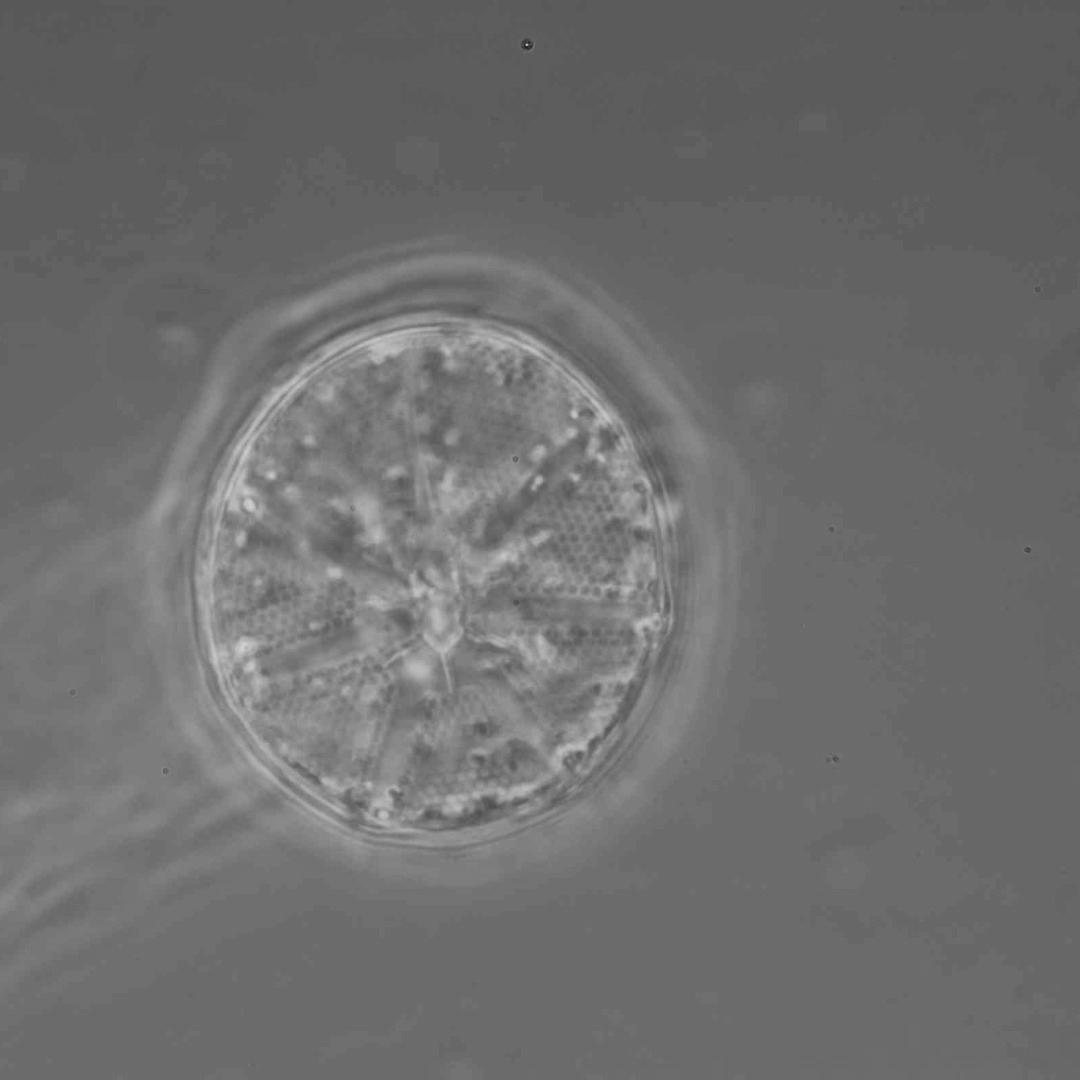asteromphalus_hyalinus: (205, 323, 671, 831)
